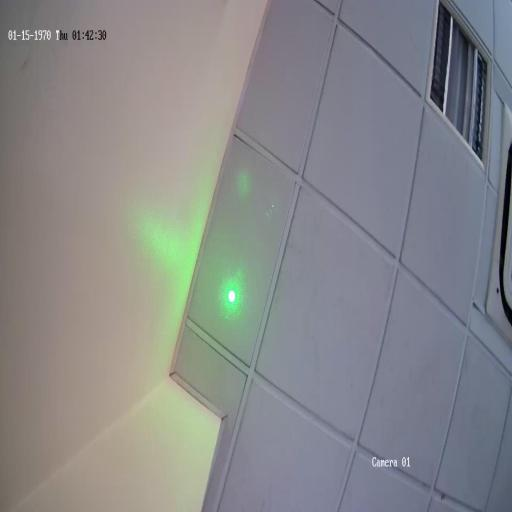laser: (226, 284, 238, 308)
